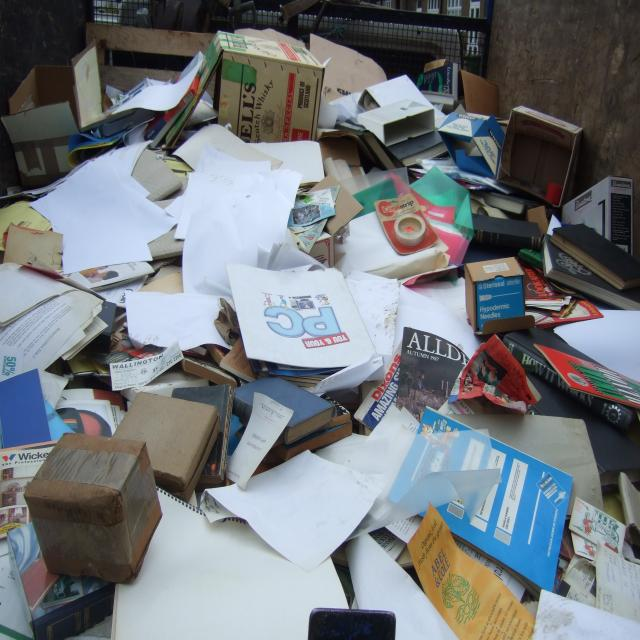Paper -Biodegradable-: (0, 23, 640, 640)
